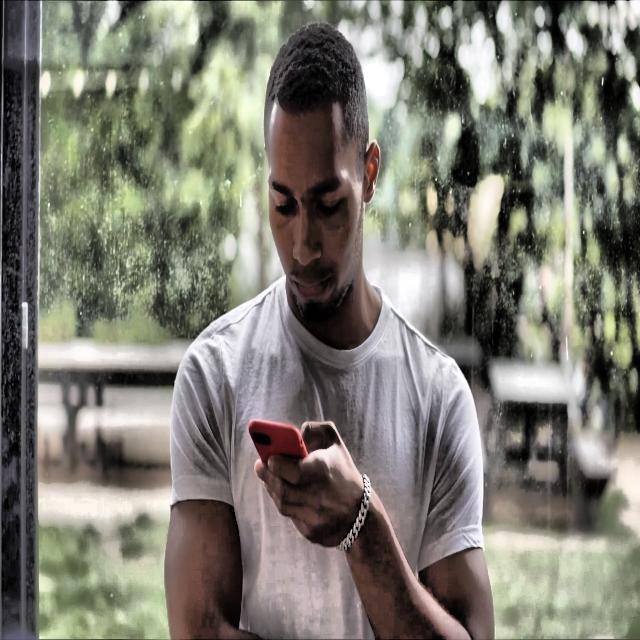Phone: (247, 416, 310, 479)
